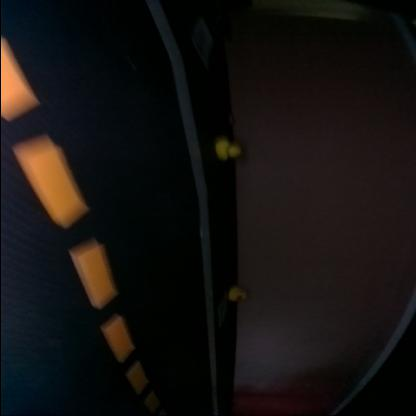Duckie: (215, 138, 241, 160), (228, 286, 246, 302)
